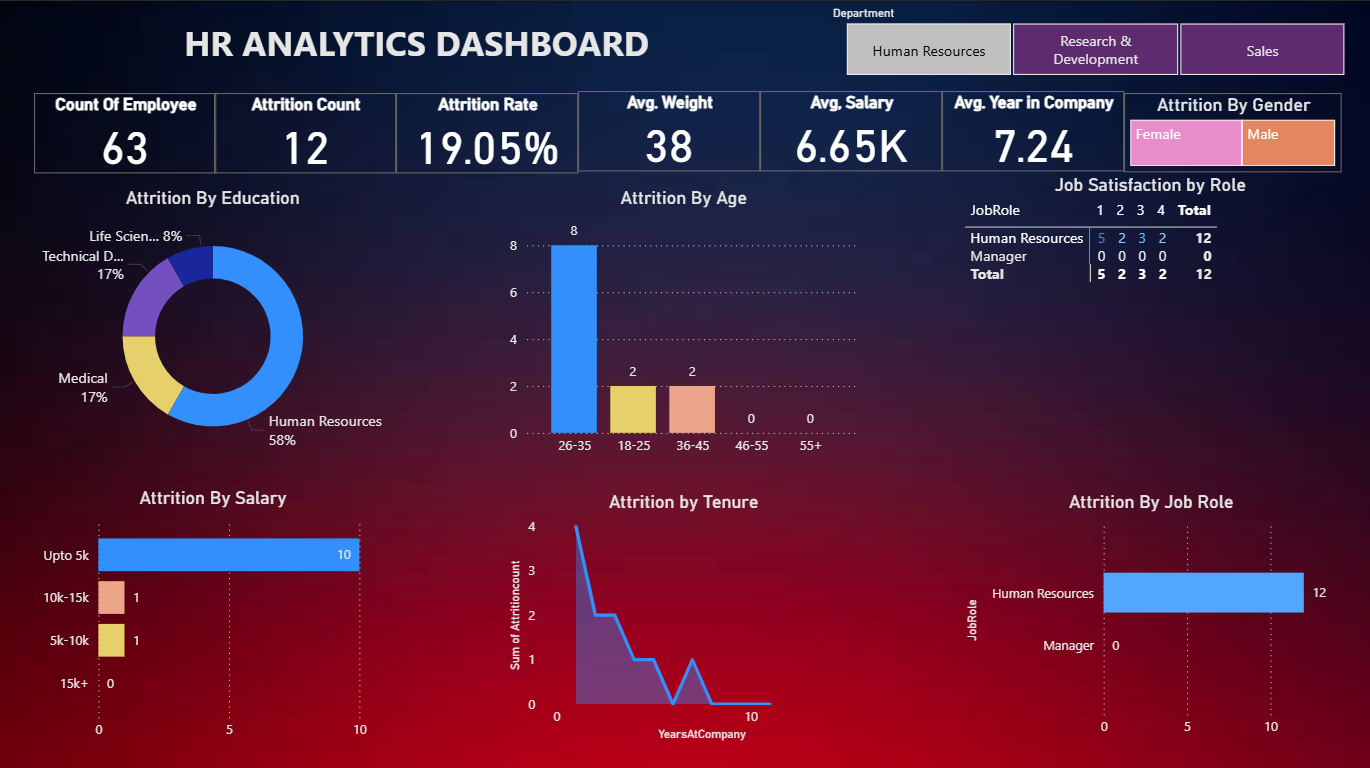

Layout of this report page (visuals, bound fields, positions):
{"tool":"powerbi","page":{"name":"Page 1","canvas":[1280,720],"ordinal":0},"visuals":[{"type":"card","title":"Count Of Employee","fields":{"Values":["CountNonNull(HR_Analytics.EmpID)"]},"box":[34,85.4,169.8,75.1],"z":0},{"type":"card","title":"Attrition Count","fields":{"Values":["Sum(HR_Analytics.Attritioncount)"]},"box":[201.7,85.4,169.8,75.1],"z":1000},{"type":"card","title":"Attrition Rate","fields":{"Values":["HR_Analytics.AttritationRate"]},"box":[371.4,85.4,169.8,75.1],"z":2000},{"type":"card","title":"Avg. Weight","fields":{"Values":["Avg(HR_Analytics.Age)"]},"box":[541.2,84.4,169.8,75.1],"z":3000},{"type":"card","title":"Avg, Salary","fields":{"Values":["Avg(HR_Analytics.MonthlyIncome)"]},"box":[711,84.4,169.8,75.1],"z":4000},{"type":"card","title":"Avg.  Year in Company","fields":{"Values":["Avg(HR_Analytics.YearsAtCompany)"]},"box":[880.8,84.4,169.8,75.1],"z":5000},{"type":"donutChart","title":"Attrition By Education","fields":{"Category":["HR_Analytics.EducationField"],"Y":["Sum(HR_Analytics.Attritioncount)"]},"box":[32.9,173.9,335.4,259.3],"z":6000},{"type":"columnChart","title":"Attrition By Age","fields":{"Category":["HR_Analytics.AgeGroup"],"Y":["Sum(HR_Analytics.Attritioncount)"]},"box":[472.3,173.9,335.4,259.3],"z":7000},{"type":"pivotTable","title":"Job Satisfaction Depending Job role","fields":{"Rows":["HR_Analytics.JobRole"],"Columns":["HR_Analytics.JobSatisfaction"],"Values":["Sum(HR_Analytics.Attritioncount)"]},"box":[897.2,161.3,355.3,259.3],"z":8000},{"type":"barChart","title":"Attrition By Salary","fields":{"Category":["HR_Analytics.SalarySlab"],"Y":["Sum(HR_Analytics.Attritioncount)"]},"box":[32.6,453.3,335.8,244.4],"z":9000},{"type":"barChart","title":"Attrition By Job Role","fields":{"Y":["Sum(HR_Analytics.Attritioncount)"],"Category":["HR_Analytics.JobRole"]},"box":[898.3,456.8,355,237.7],"z":10000},{"type":"areaChart","title":"Job Satisfaction Depending Job role","fields":{"Category":["HR_Analytics.YearsAtCompany"],"Y":["Sum(HR_Analytics.Attritioncount)"]},"box":[472.3,456.8,335.4,237.7],"z":11000},{"type":"treemap","title":"Attrition By Gender","fields":{"Group":["HR_Analytics.Gender"],"Values":["Sum(HR_Analytics.Attritioncount)"]},"box":[1050.5,85.4,202.7,74.1],"z":12000},{"type":"slicer","fields":{"Values":["HR_Analytics.Department"]},"box":[765.5,0,514.5,76.1],"z":13000},{"type":"textbox","box":[0,11.3,781,74.1],"z":14000}]}

Visuals, with their boxes in screenshot pixels (x1, y1, x2, y2), scaled from the page's 1280x720 canvas onto the 1370x768 screenshot:
"Count Of Employee" card: bbox=(36, 91, 218, 171)
"Attrition Count" card: bbox=(216, 91, 398, 171)
"Attrition Rate" card: bbox=(398, 91, 579, 171)
"Avg. Weight" card: bbox=(579, 90, 761, 170)
"Avg, Salary" card: bbox=(761, 90, 943, 170)
"Avg.  Year in Company" card: bbox=(943, 90, 1124, 170)
"Attrition By Education" donutChart: bbox=(35, 185, 394, 462)
"Attrition By Age" columnChart: bbox=(506, 185, 864, 462)
"Job Satisfaction Depending Job role" pivotTable: bbox=(960, 172, 1341, 449)
"Attrition By Salary" barChart: bbox=(35, 484, 394, 744)
"Attrition By Job Role" barChart: bbox=(961, 487, 1341, 741)
"Job Satisfaction Depending Job role" areaChart: bbox=(506, 487, 864, 741)
"Attrition By Gender" treemap: bbox=(1124, 91, 1341, 170)
slicer - HR_Analytics.Department: bbox=(819, 0, 1369, 81)
textbox: bbox=(0, 12, 836, 91)
